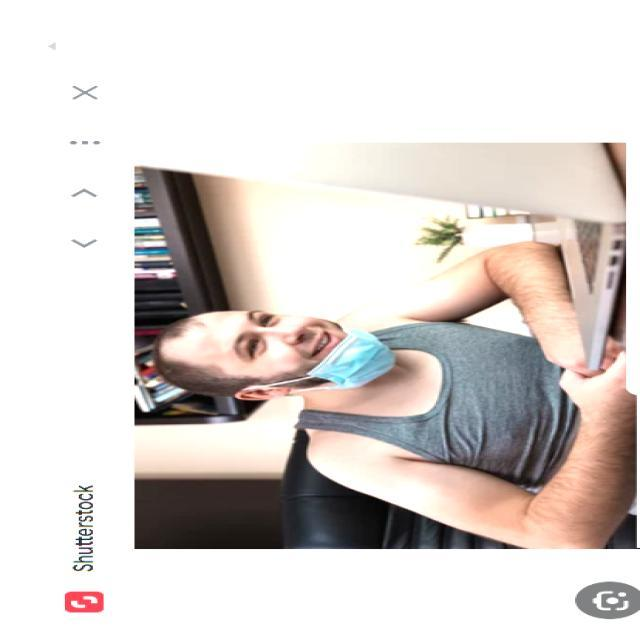face_no_mask: (163, 308, 377, 398)
